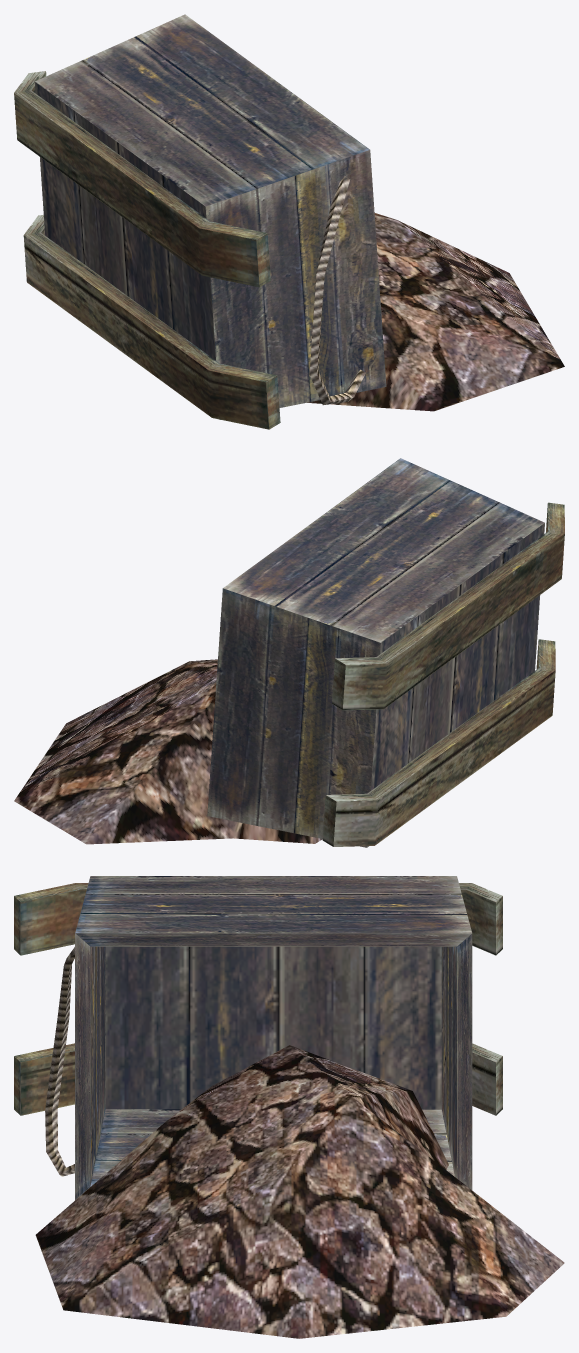
The model's file is m_vagon3.glb.
3 views of the same model, one above another, from view 1: azimuth 30°, elevation 25°; view 2: azimuth 150°, elevation 25°; view 3: azimuth 270°, elevation 25° (orthographic). The views are drawn at different scales.
Visible parts, largest first — view 1: m_vagon3-col; view 2: m_vagon3-col; view 3: m_vagon3-col.
Boxes of the visible parts, x1,y1,x2,y2 form: m_vagon3-col: (14, 14, 564, 429); m_vagon3-col: (14, 458, 564, 847); m_vagon3-col: (14, 876, 564, 1338).
Size of the model in its own units: 2.16 by 1.29 by 2.31.
Materials: 4 (4 with a texture image).
